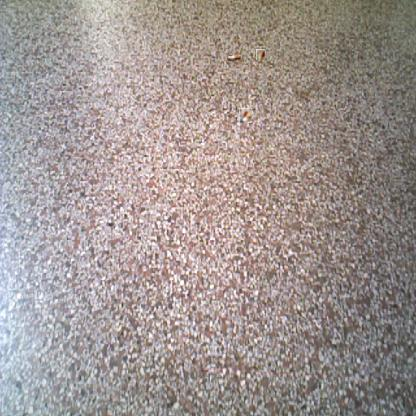dirty: (239, 108, 252, 122), (228, 56, 244, 63), (255, 50, 266, 59)
